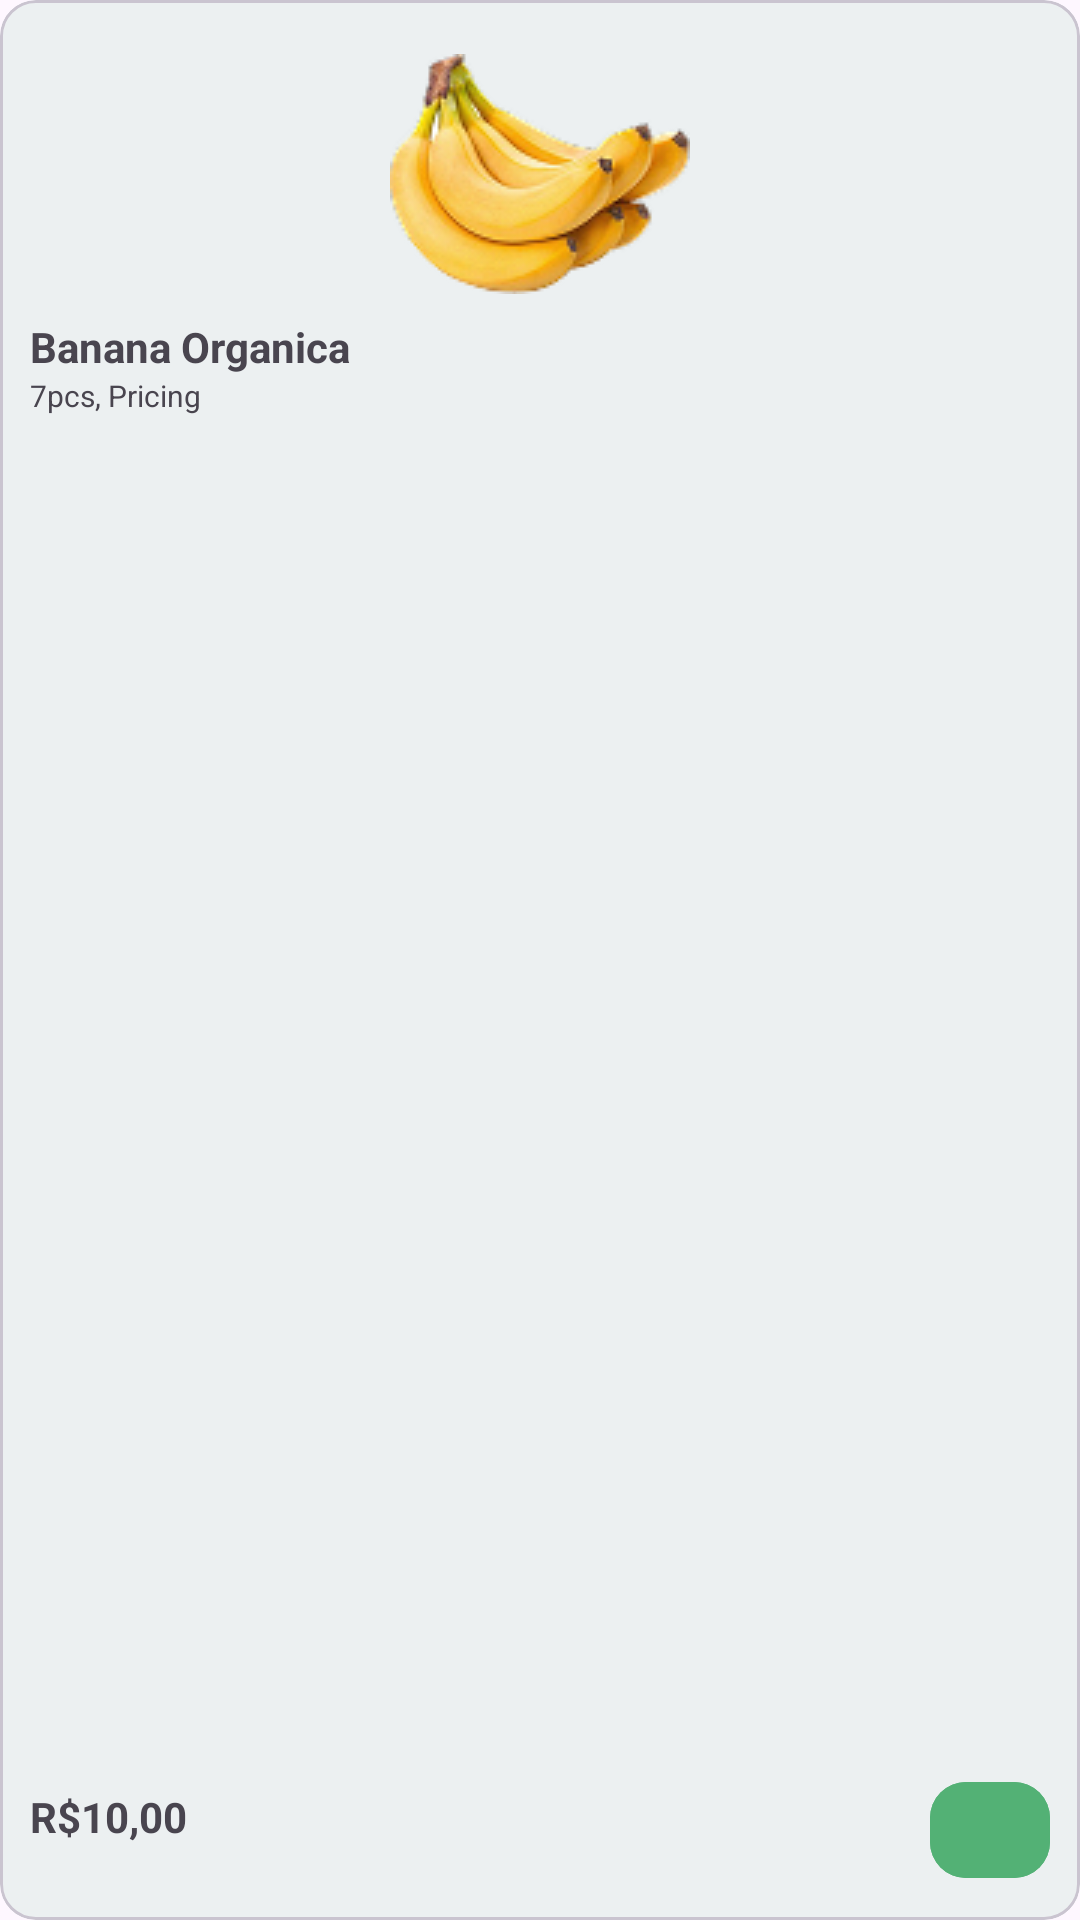

Where icons sit on this 1080×1920 app screen, as {"left": x1, "top": y1, "right": x2, "bottom": y2}:
foto banana: {"left": 390, "top": 54, "right": 690, "bottom": 294}
